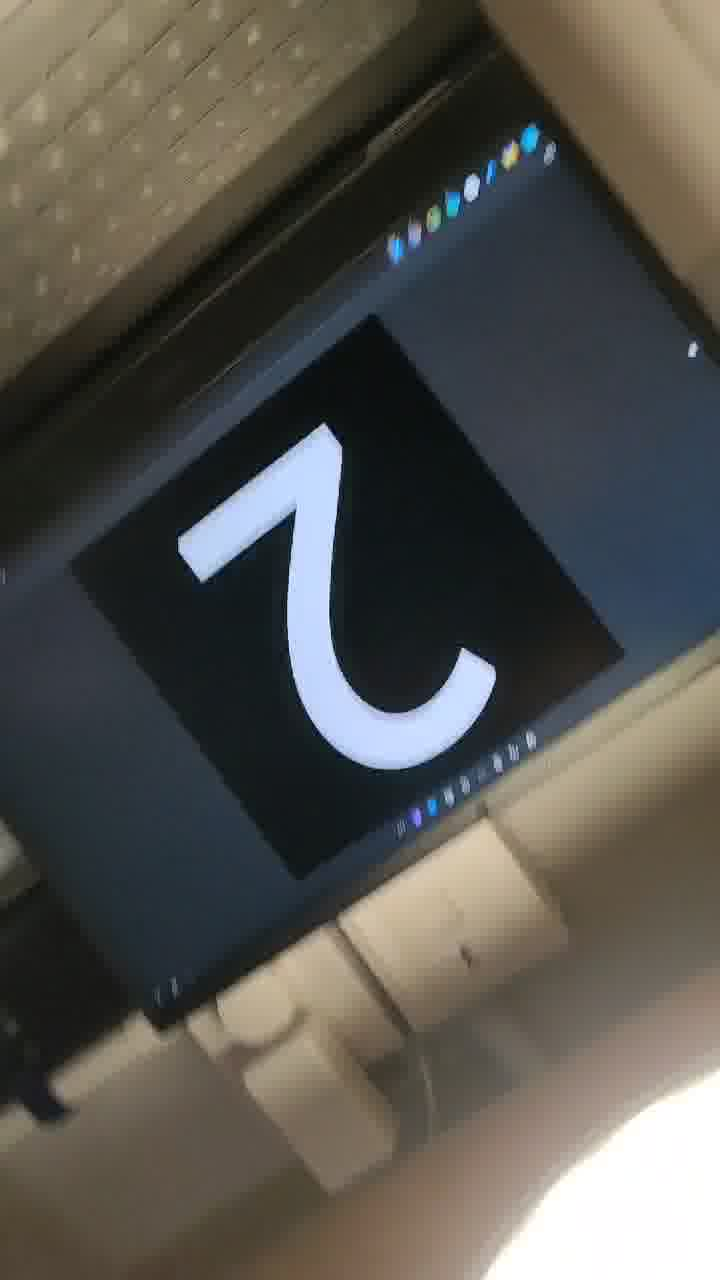two: (136, 344, 528, 783)
